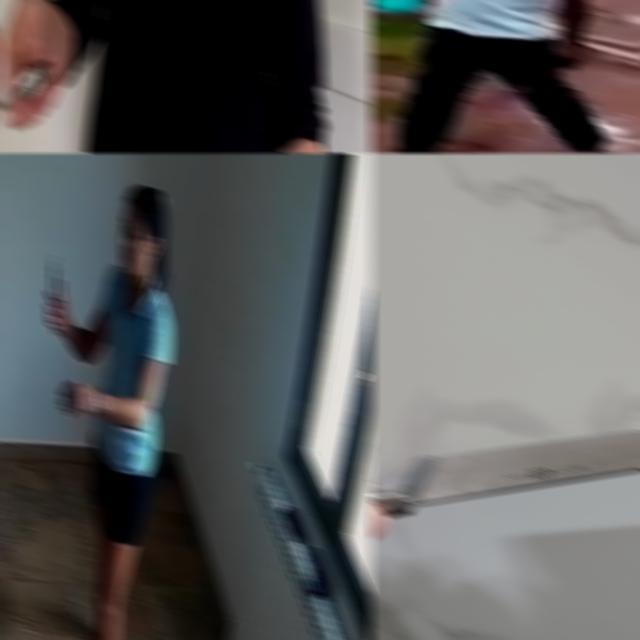Knife: (369, 429, 640, 517), (512, 60, 562, 94), (48, 250, 60, 299)
Knife_Handle: (0, 0, 68, 129), (508, 42, 586, 96), (44, 246, 68, 334)
